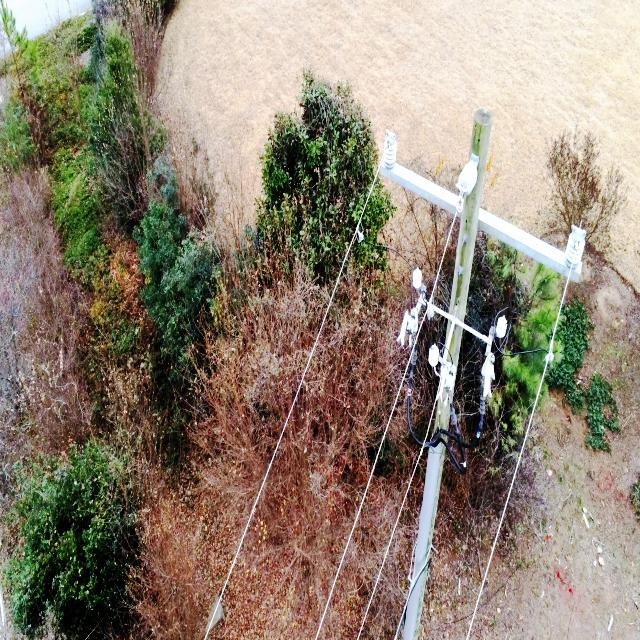poles: (378, 110, 586, 640), (481, 316, 507, 402)
wires: (336, 130, 502, 351), (315, 335, 419, 640), (479, 208, 586, 458), (355, 377, 445, 640), (203, 440, 280, 640), (465, 459, 520, 640), (280, 289, 335, 439)
